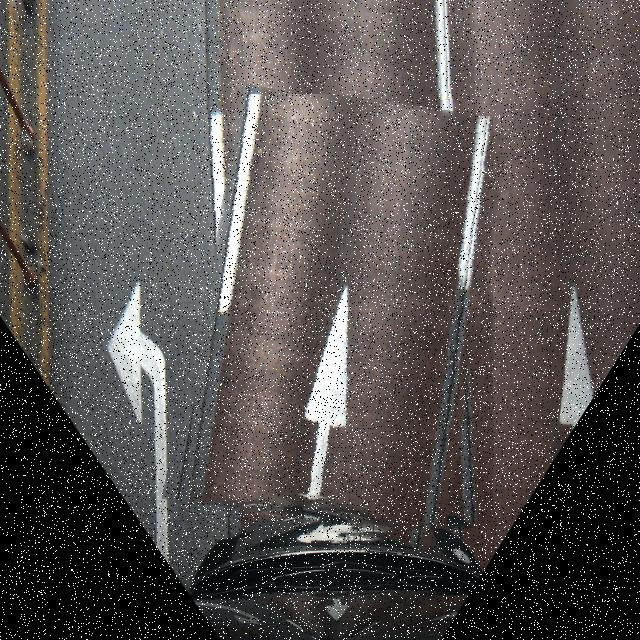forward: (181, 94, 493, 540)
